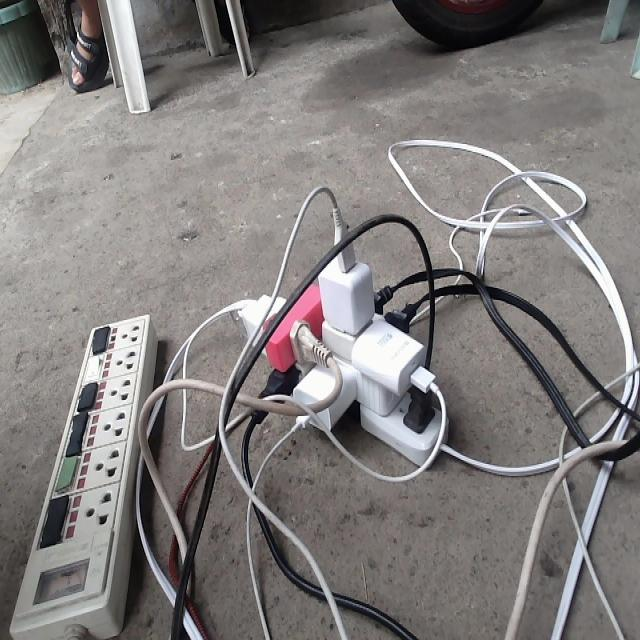-: (240, 216, 449, 465)
